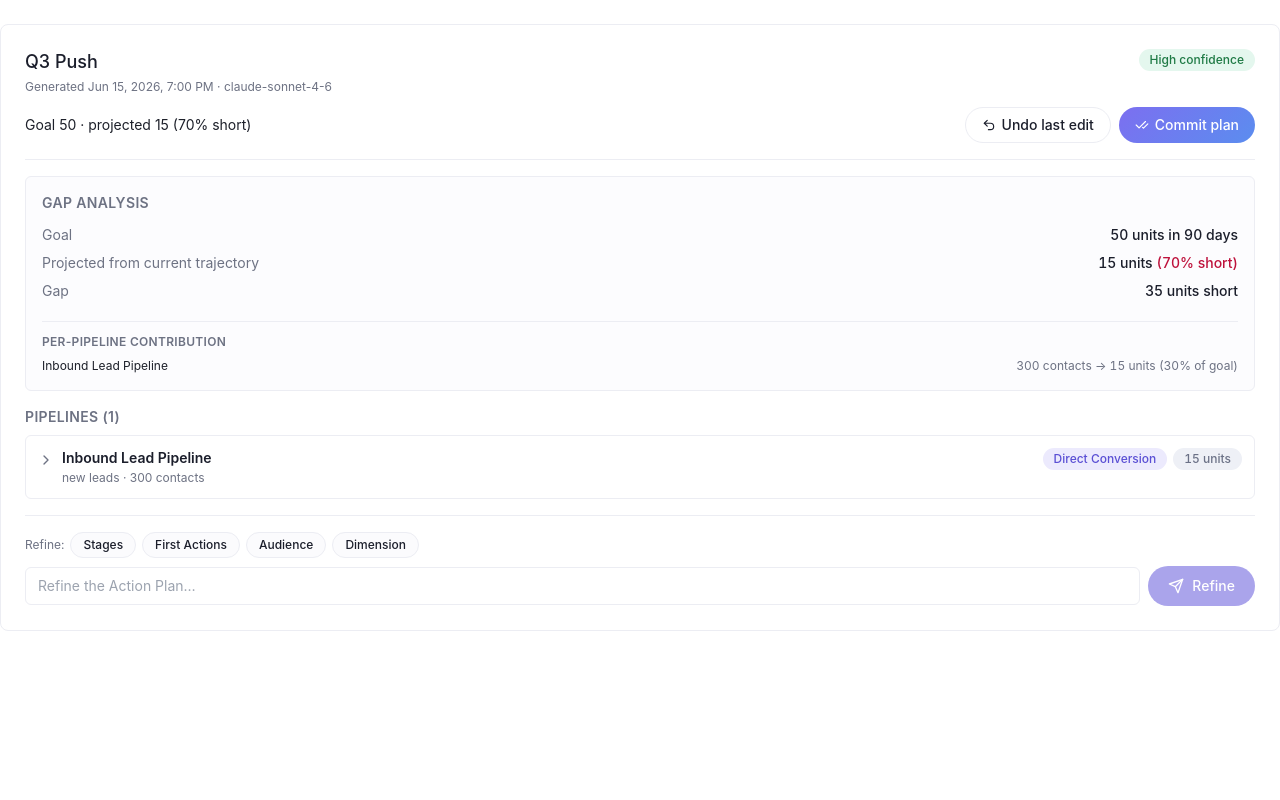
Refiner result variants (G4/G5/G6) › renders bounds_violation banner with strategy badge
The width and height of the screenshot is (1280, 800).
Type "remove stage 1" into the field labelled "Refine the Action Plan…".
click(583, 586); type("remove stage 1")  # box [25,567,1140,605]
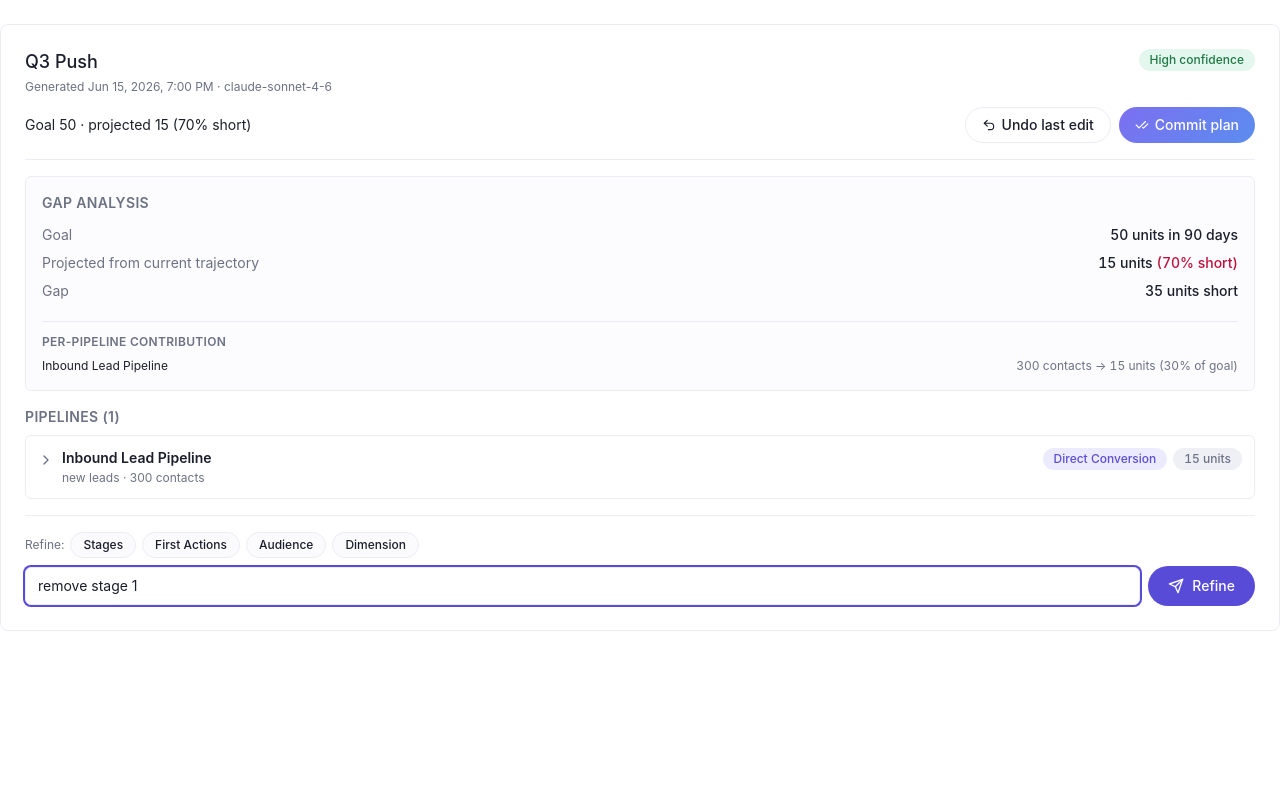
Click the button with aria-label "Send refinement".
click(1202, 586)  # box [1148,566,1255,606]
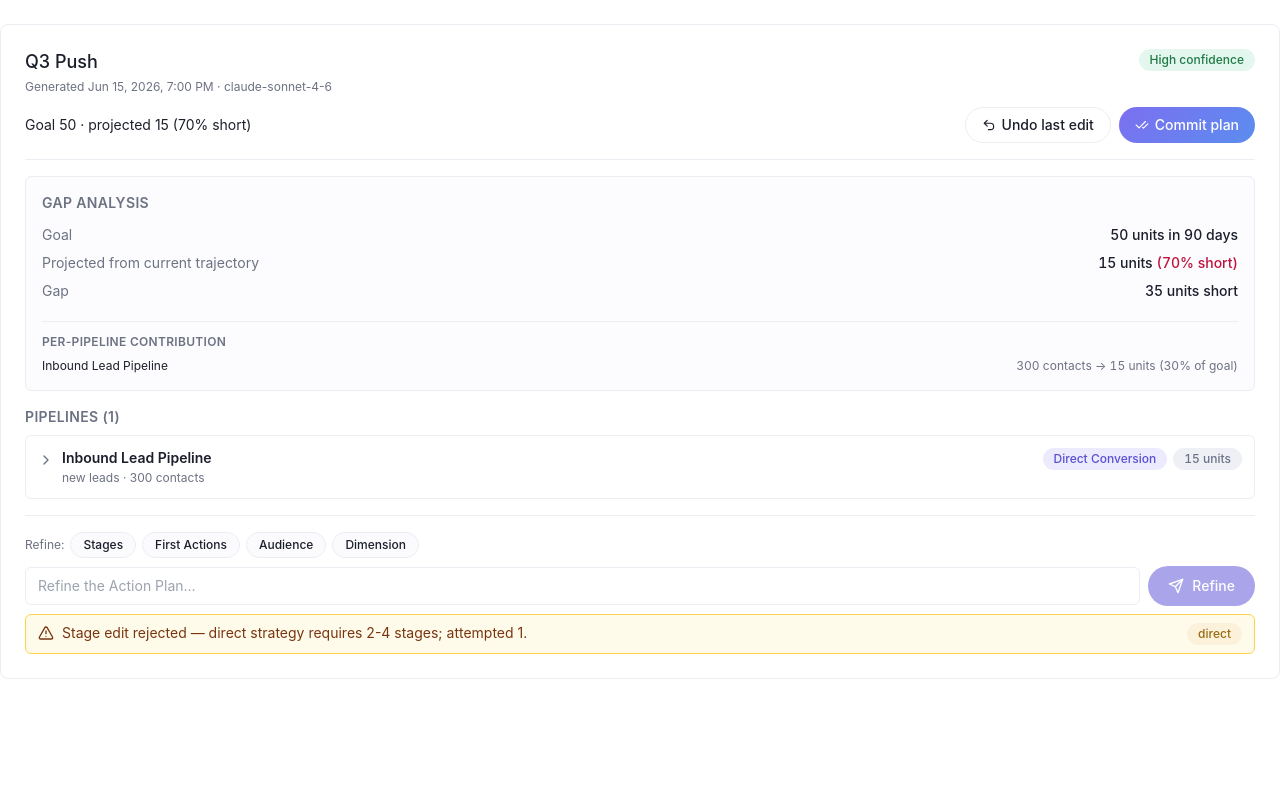
Expected: the text "Stage edit rejected" is shown, [62,624,527,641]
